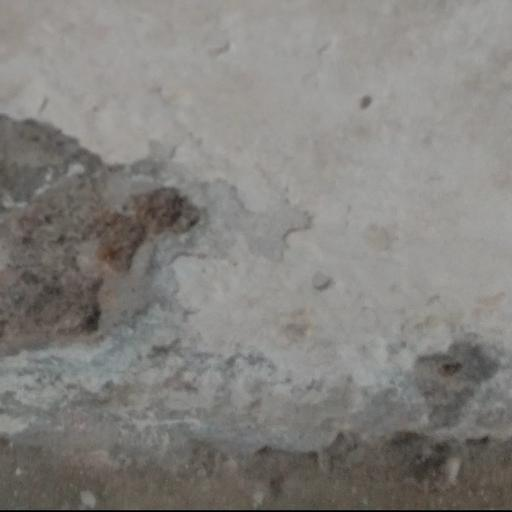spalling: (0, 60, 241, 410), (0, 373, 512, 512), (403, 338, 512, 454)
